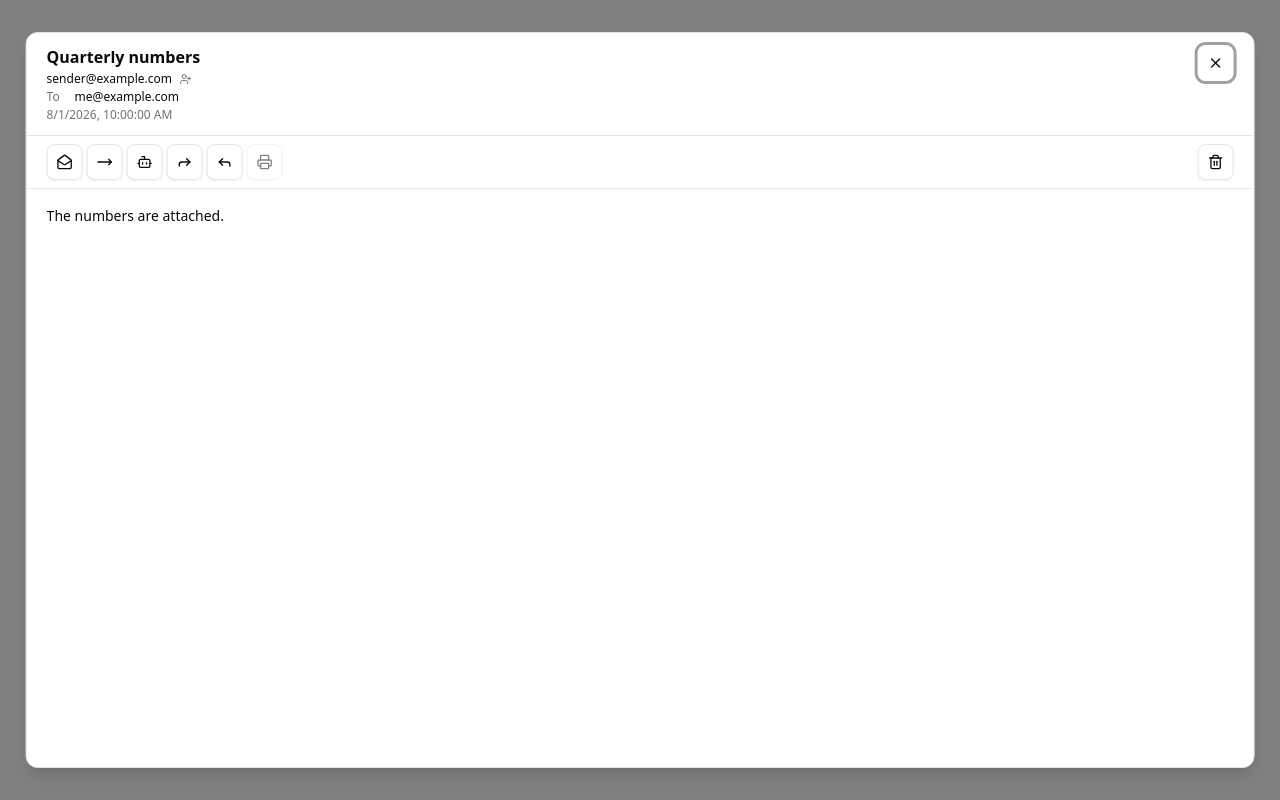
Test case: EmailPopoutDialog AI draft › offers the AI helper in the reply box
Click the button named "Reply".
click(225, 162)  # box [207,144,243,180]
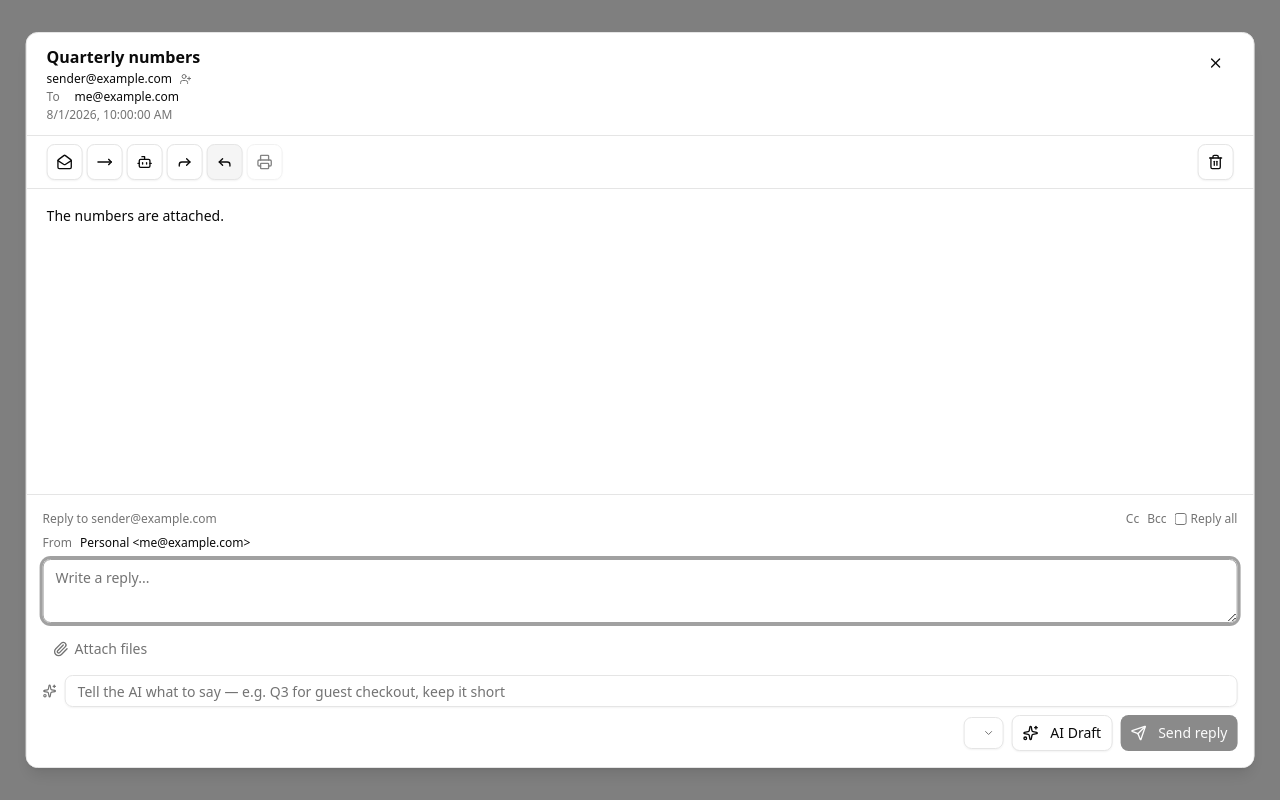
Expected: the field named "Instructions for the AI draft" is shown, [65,675,1237,707]
Expected: the button titled "Model used for AI Draft" is shown, [963,717,1003,749]
Expected: the button "AI Draft" is shown, [1011,715,1112,751]
